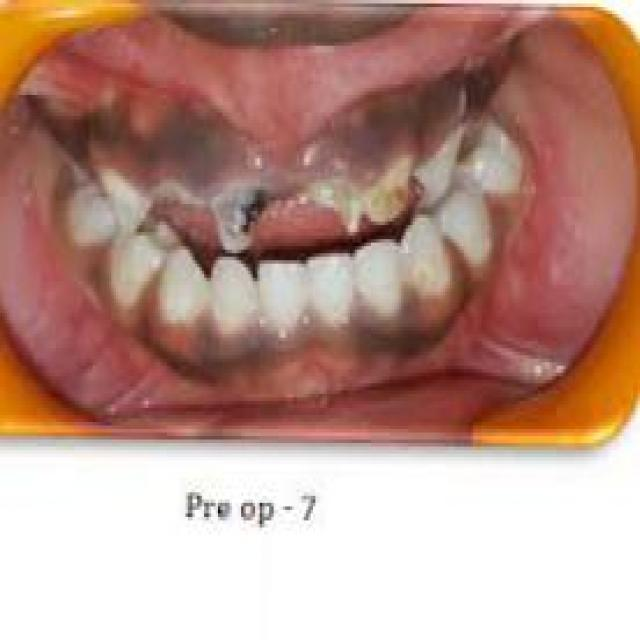caries: (208, 166, 275, 260), (304, 166, 362, 247), (366, 153, 417, 233)
